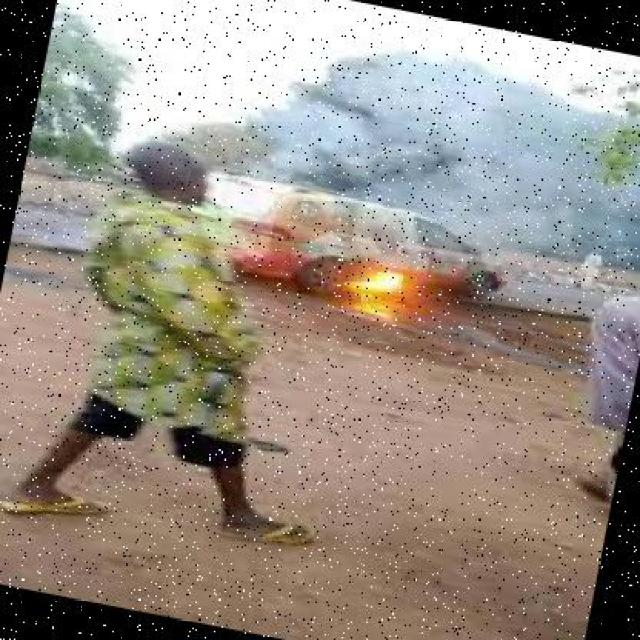fire: (331, 246, 446, 323)
